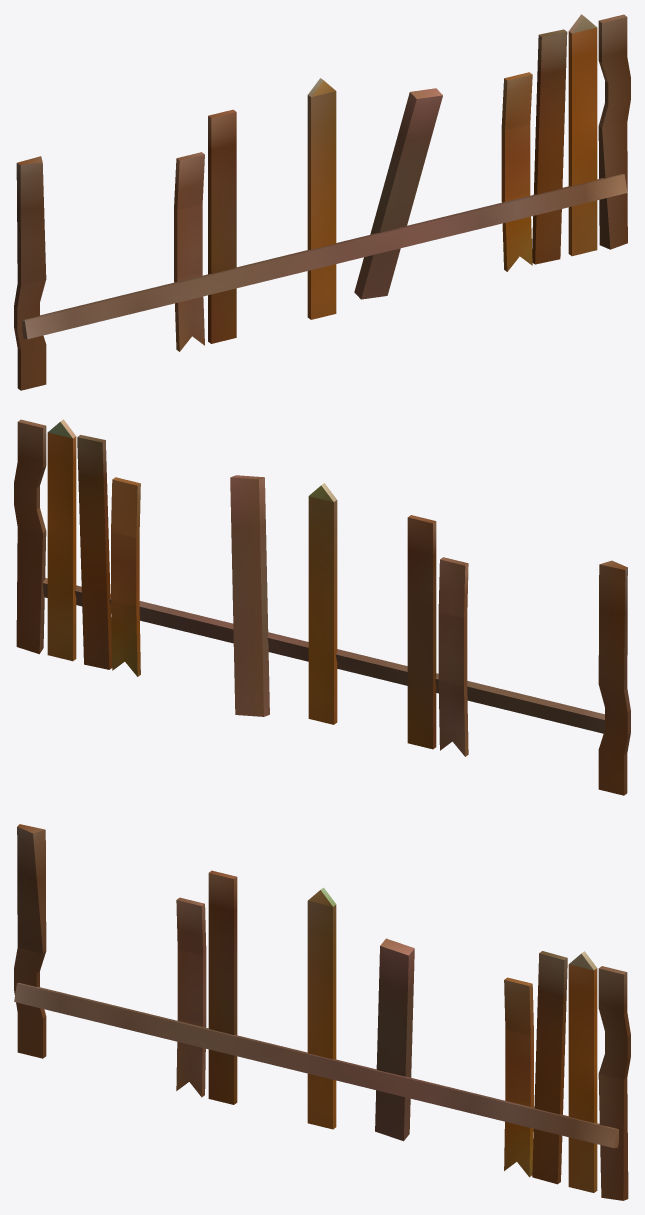
File: mega-pack-cube-233.glb
3 views of the same model, one above another, from view 1: azimuth 30°, elevation 25°; view 2: azimuth 150°, elevation 25°; view 3: azimuth 330°, elevation 25° (orthographic).
Parts seen in each view (by area): view 1: Cube.233; view 2: Cube.233; view 3: Cube.233.
Boxes of the visible parts, <box> form: Cube.233: <box>14,14,630,390</box>; Cube.233: <box>14,419,630,795</box>; Cube.233: <box>14,824,630,1200</box>.
Size of the model in its own units: 1.97 by 0.7397 by 0.1829.
Materials: 1 (1 with a texture image).
